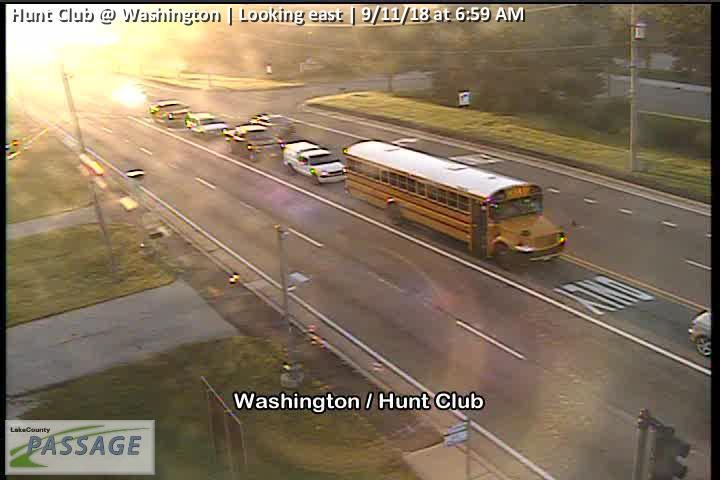Bus: (342, 138, 567, 270)
SUV: (282, 141, 346, 184), (223, 125, 282, 164)
Sedan: (248, 112, 296, 139), (148, 99, 191, 128), (186, 112, 226, 139)
